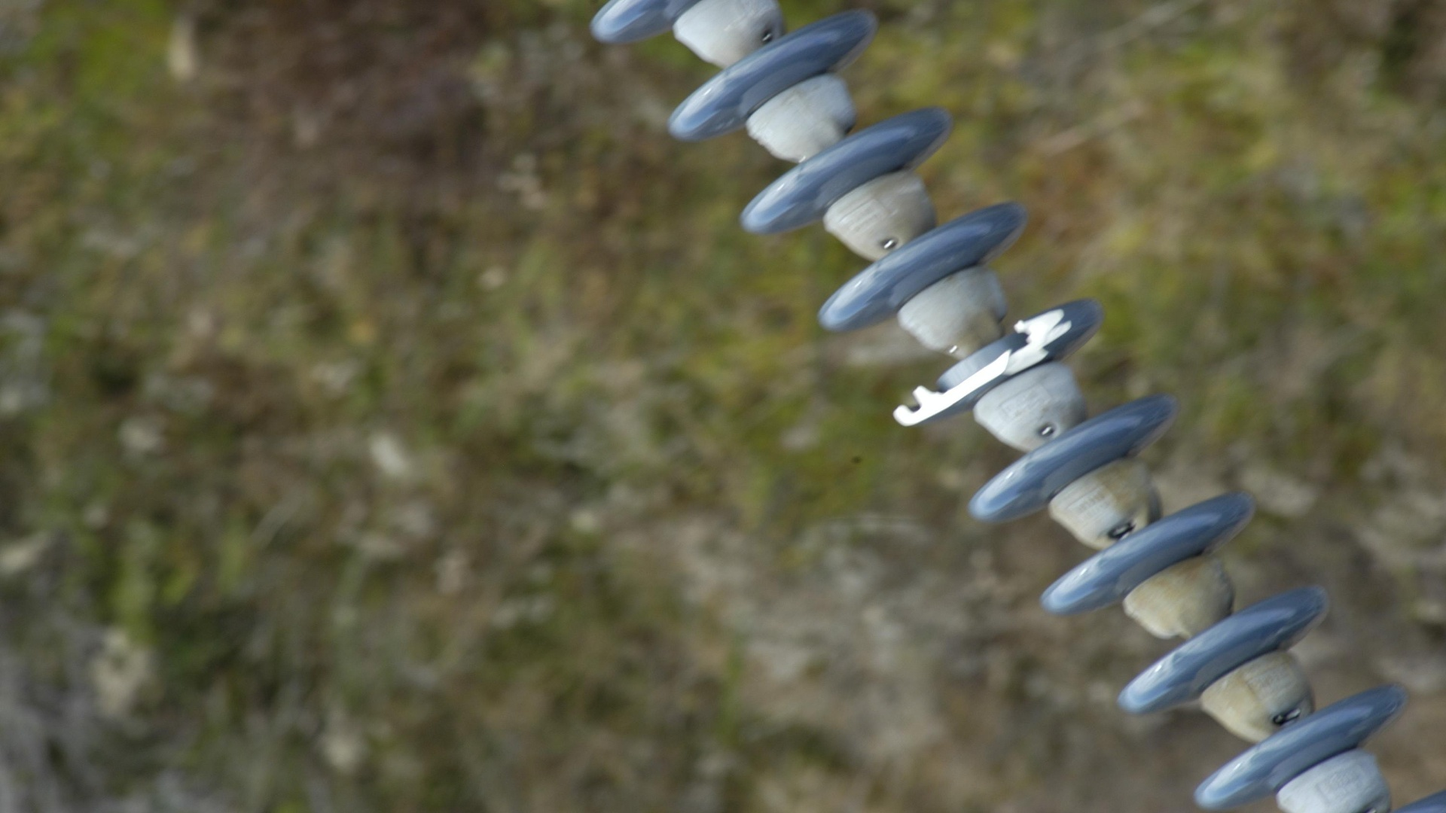insulator: (584, 1, 1446, 813)
insulator_breakage: (891, 302, 1075, 428)
